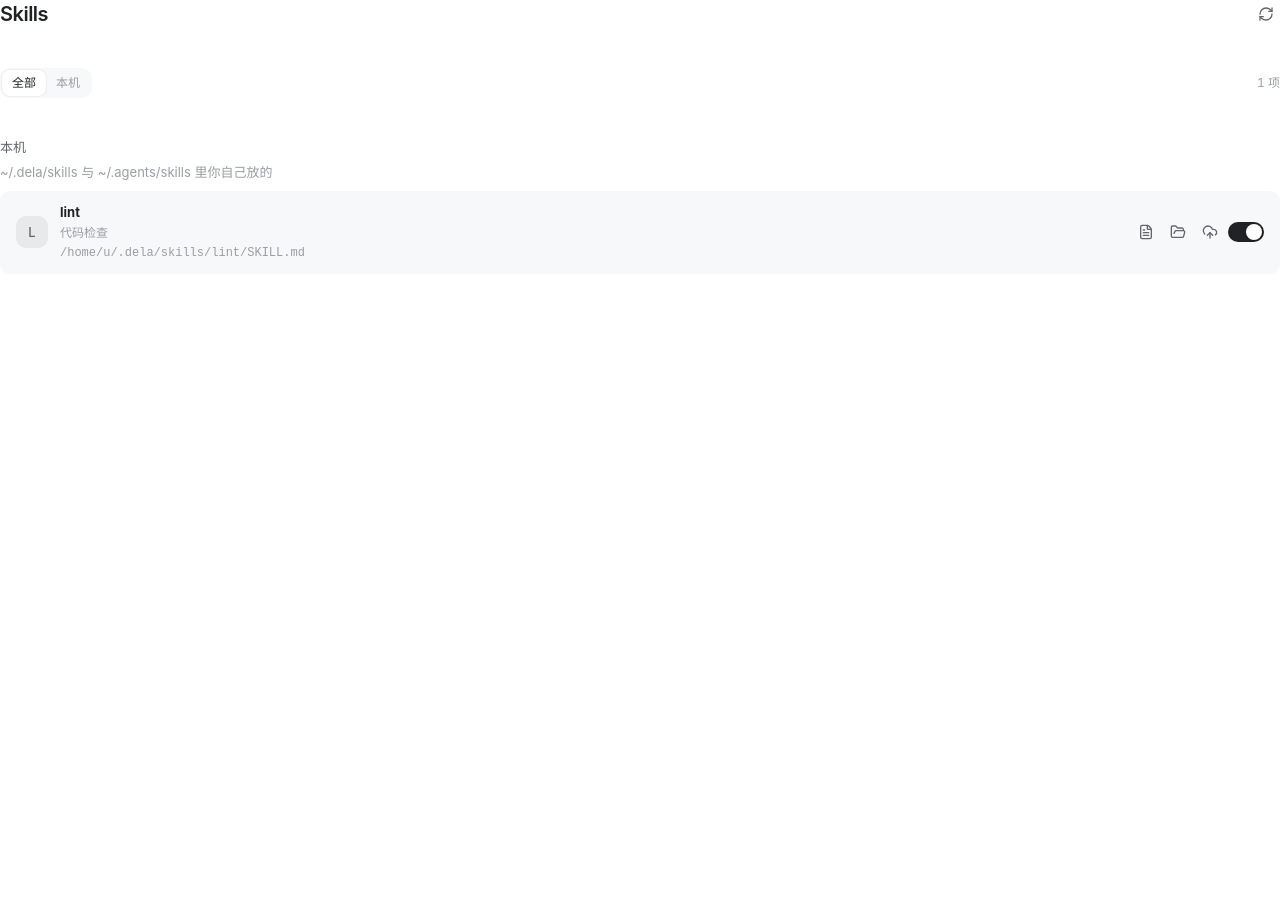
empty state without remote projects
The image size is (1280, 900).
Click the button named "上传 lint 到远端项目": coordinates (1210, 232) [1196, 218, 1224, 246]
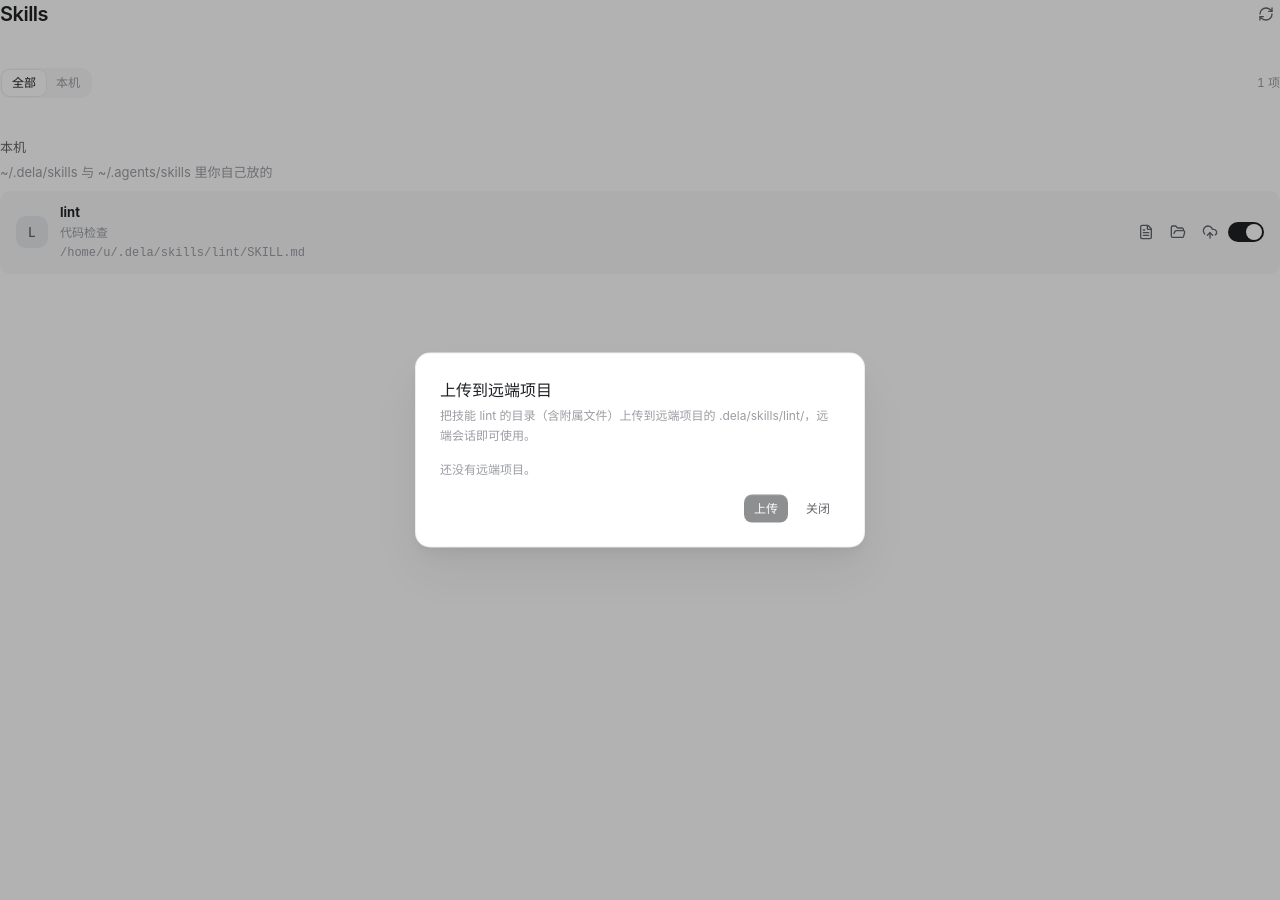
Result: the button "上传" is disabled at [744, 494, 788, 522]
